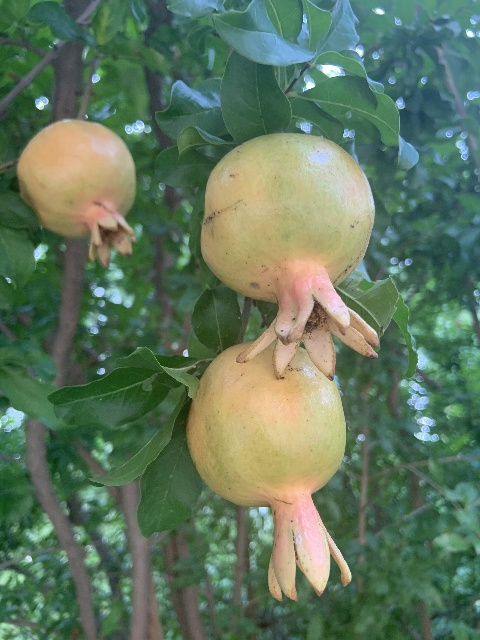mid-growth: (199, 130, 379, 380), (185, 339, 352, 600), (16, 120, 138, 268)
